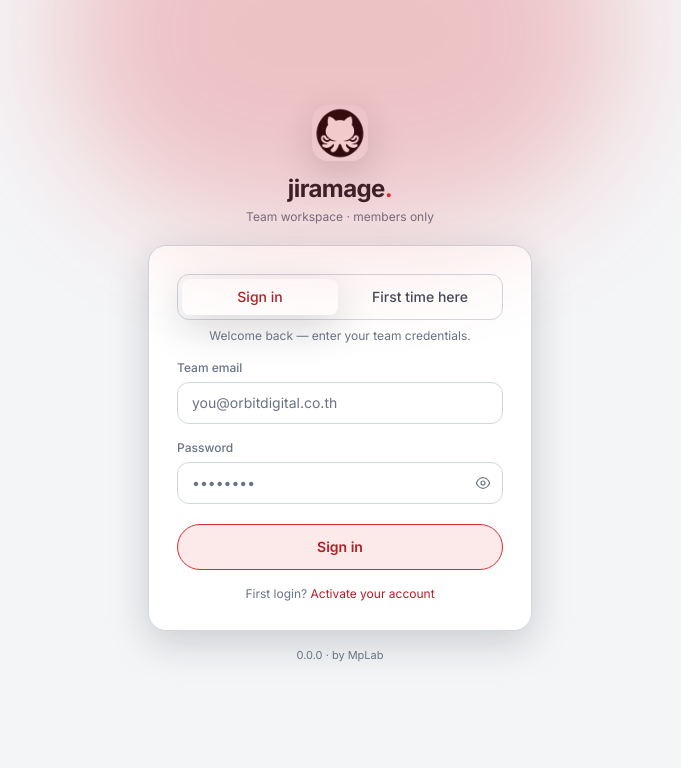
Test case: LoginPage — first-time activation checklist › shows all five checklist rules
Click the button "First time here" at (420, 297), box x1=342 y1=279 x2=498 y2=315
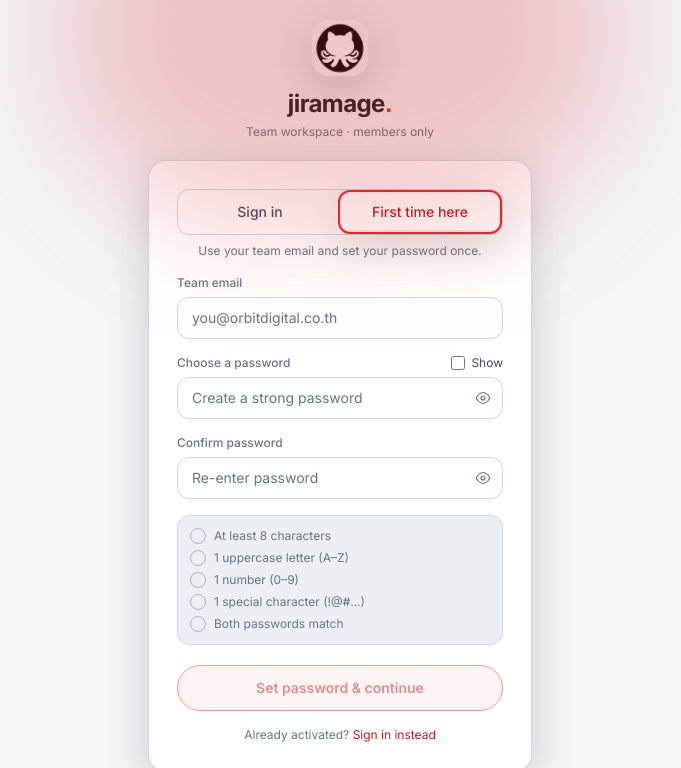
Now the list item "At least 8 characters" is shown, box x1=190 y1=528 x2=331 y2=544
Now the list item "1 uppercase letter (A–Z)" is shown, box x1=190 y1=550 x2=349 y2=566
Now the list item "1 number (0–9)" is shown, box x1=190 y1=572 x2=299 y2=588
